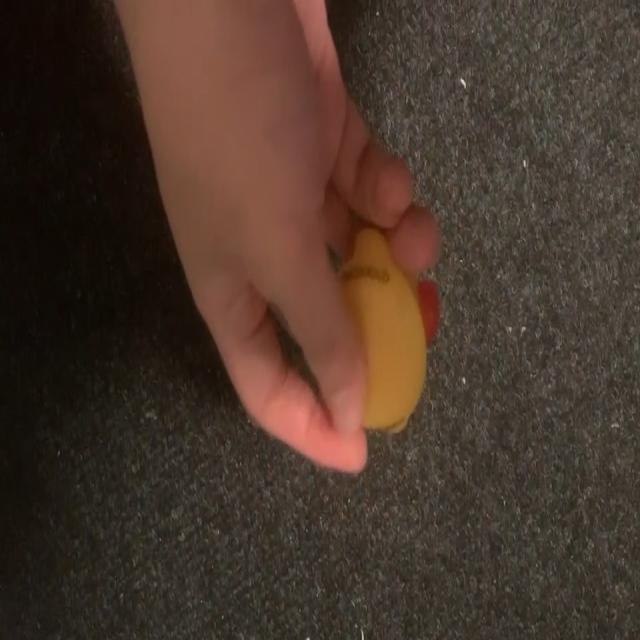rubber-duck: (341, 227, 424, 429)
